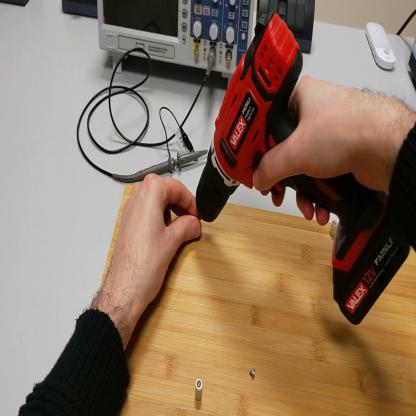electric screwdriver: (194, 14, 409, 328)
hand: (251, 74, 390, 221), (108, 172, 201, 313)
oscilloscope: (97, 2, 255, 89)
oscilloscope probe tip: (120, 147, 208, 188)
socket: (62, 1, 99, 26), (1, 1, 30, 9)
welder station: (411, 36, 416, 86)
working area: (99, 184, 416, 416)
